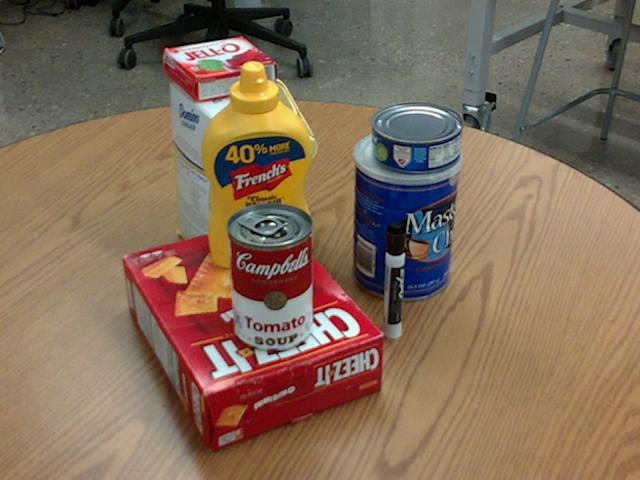cracker_box: (124, 217, 383, 450)
gelatin_box: (164, 37, 275, 101)
large_marker: (381, 222, 405, 339)
master_chef_can: (350, 126, 462, 301)
mug: (222, 139, 309, 241)
mustard_bottle: (200, 60, 311, 268)
potted_meat_can: (208, 78, 317, 197)
sugar_box: (170, 78, 247, 274)
tomato_soup_can: (226, 201, 313, 350)
tuna_fish_can: (371, 102, 463, 172)
